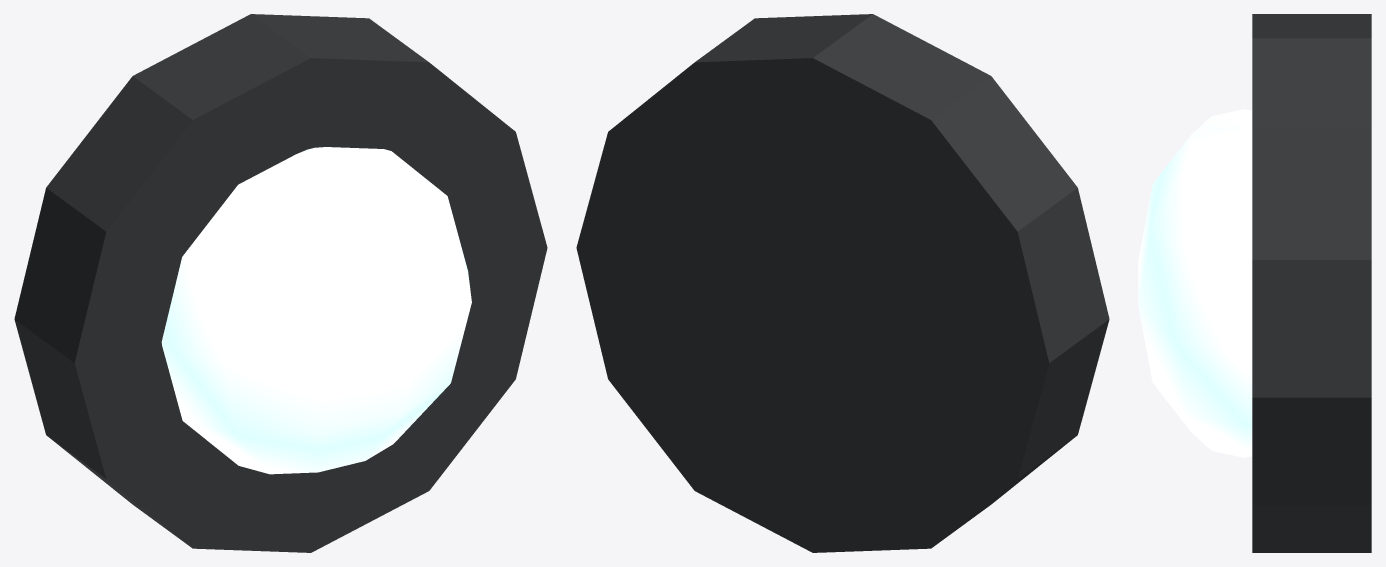
Rendered from thermal_pod_led_a.glb.
3 views of the same model, side by side, from view 1: azimuth 30°, elevation 25°; view 2: azimuth 150°, elevation 25°; view 3: azimuth 270°, elevation 25° (orthographic).
Visible parts, largest first — view 1: body; view 2: body; view 3: body.
Boxes of the visible parts, x1,y1,x2,y2 form: body: (14,14,547,552); body: (576,14,1109,552); body: (1138,14,1371,552).
Size of the model in its own units: 0.0068 by 0.0068 by 0.00293.
